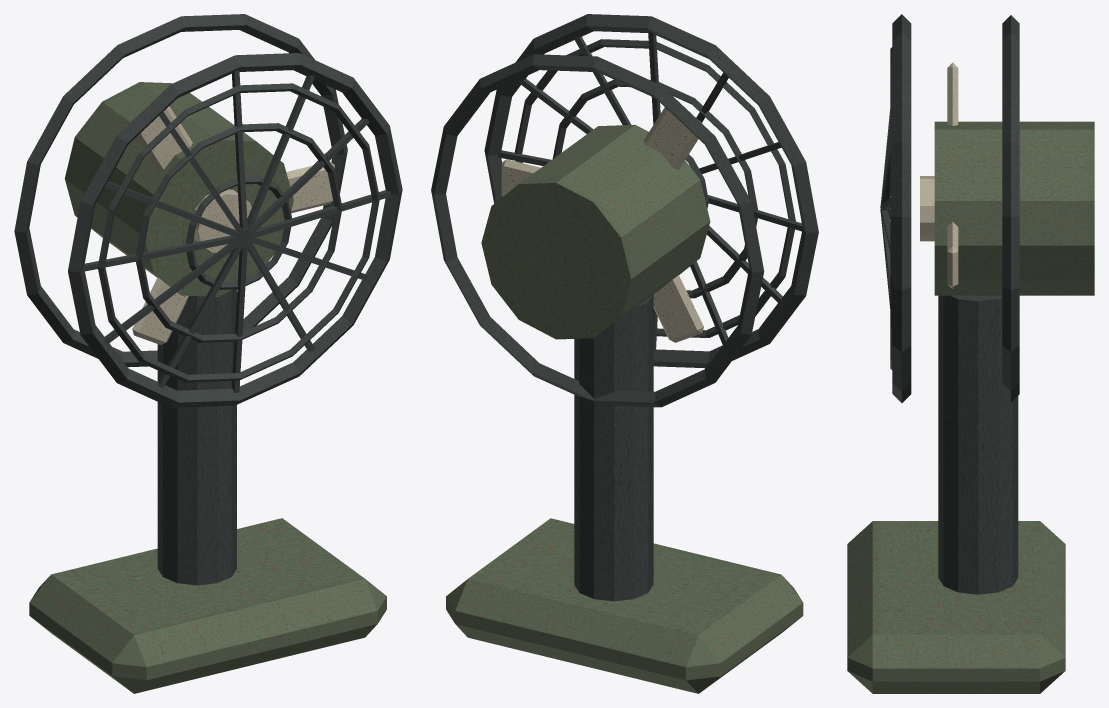
Rendered from SalvageFan.fbx.
3 renders of one model, left to right at view 1: azimuth 30°, elevation 25°; view 2: azimuth 150°, elevation 25°; view 3: azimuth 270°, elevation 25°, orthographic.
Parts seen in each view (by area): view 1: SalvageFan; view 2: SalvageFan; view 3: SalvageFan.
Part boxes in pixels (x1,y1,x2,y2): SalvageFan: (14,14,402,693); SalvageFan: (431,14,818,693); SalvageFan: (847,14,1094,693).
Size of the model in its own units: 53.6 by 91.8 by 34.
1 material, 1 textured.
